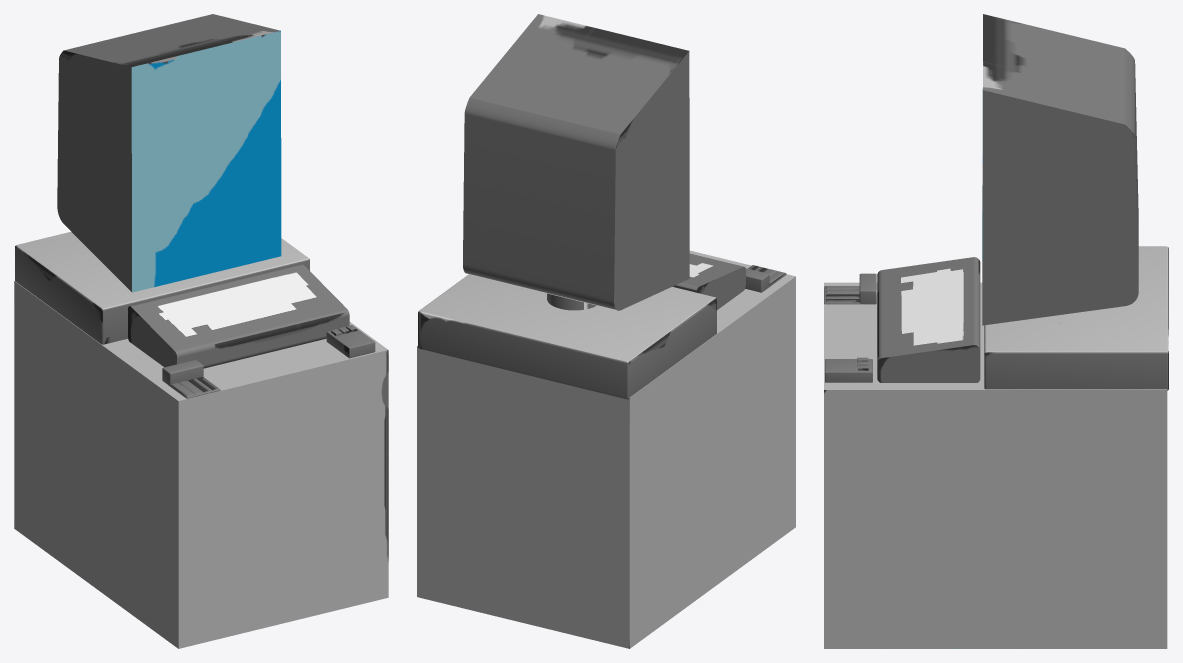
3 renders of one model, left to right at view 1: azimuth 30°, elevation 25°; view 2: azimuth 150°, elevation 25°; view 3: azimuth 270°, elevation 25°, orthographic. The views are drawn at different scales.
Parts seen in each view (by area): view 1: node_e19ca249_2b90_4b88_b746_696e3bf09a2d_mesh0; view 2: node_e19ca249_2b90_4b88_b746_696e3bf09a2d_mesh0; view 3: node_e19ca249_2b90_4b88_b746_696e3bf09a2d_mesh0.
Part boxes in pixels (left/top/right/bottom): node_e19ca249_2b90_4b88_b746_696e3bf09a2d_mesh0: left=14, top=14, right=388, bottom=648; node_e19ca249_2b90_4b88_b746_696e3bf09a2d_mesh0: left=417, top=14, right=795, bottom=648; node_e19ca249_2b90_4b88_b746_696e3bf09a2d_mesh0: left=824, top=14, right=1168, bottom=648.
Size of the model in its own units: 0.5867 by 1.39 by 0.7979.
1 material, 1 textured.
